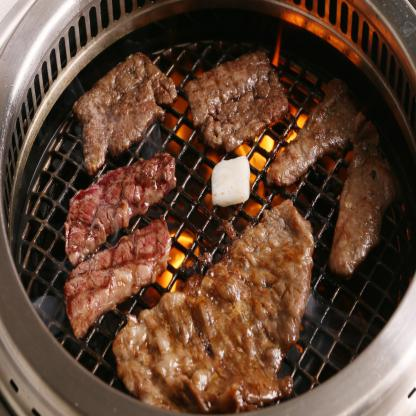Carne: (109, 202, 321, 399), (78, 44, 172, 176), (56, 222, 176, 316), (60, 150, 177, 244), (188, 51, 286, 156), (264, 90, 360, 190), (325, 151, 392, 269)
